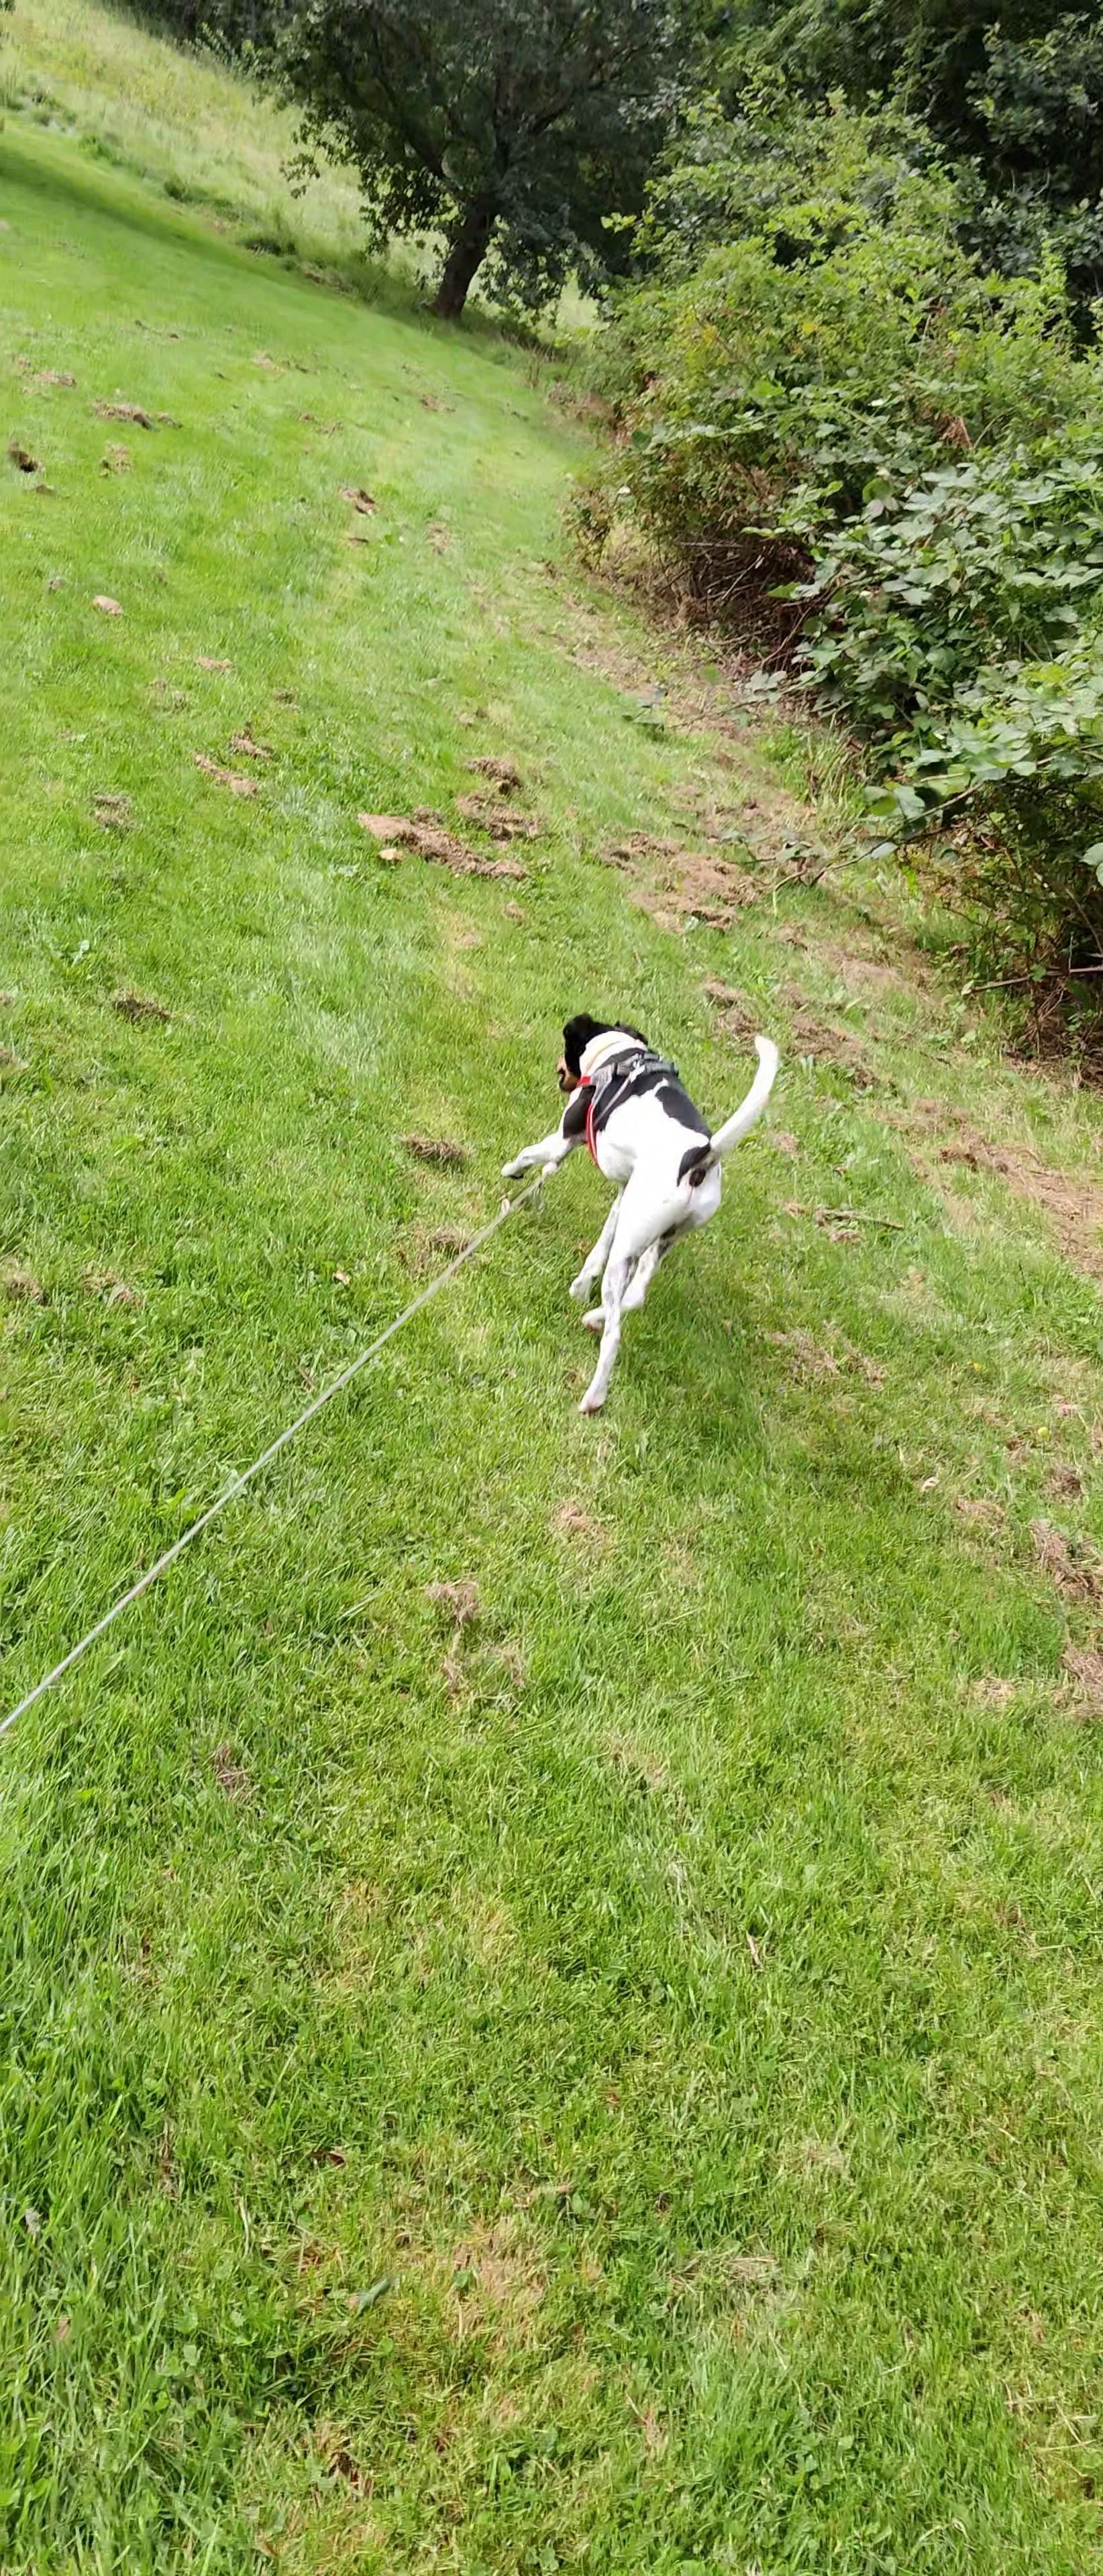Dog: (473, 996, 797, 1423)
